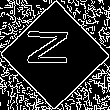N_E: (30, 35, 80, 75)
